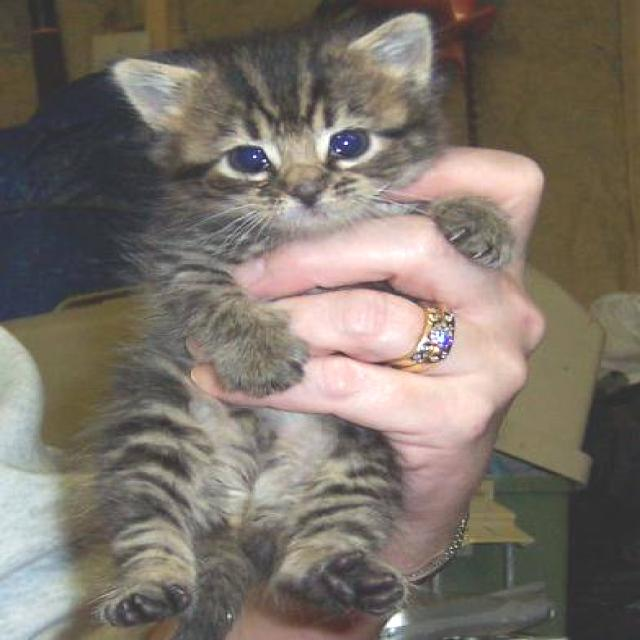Kucing: (47, 0, 507, 612)
